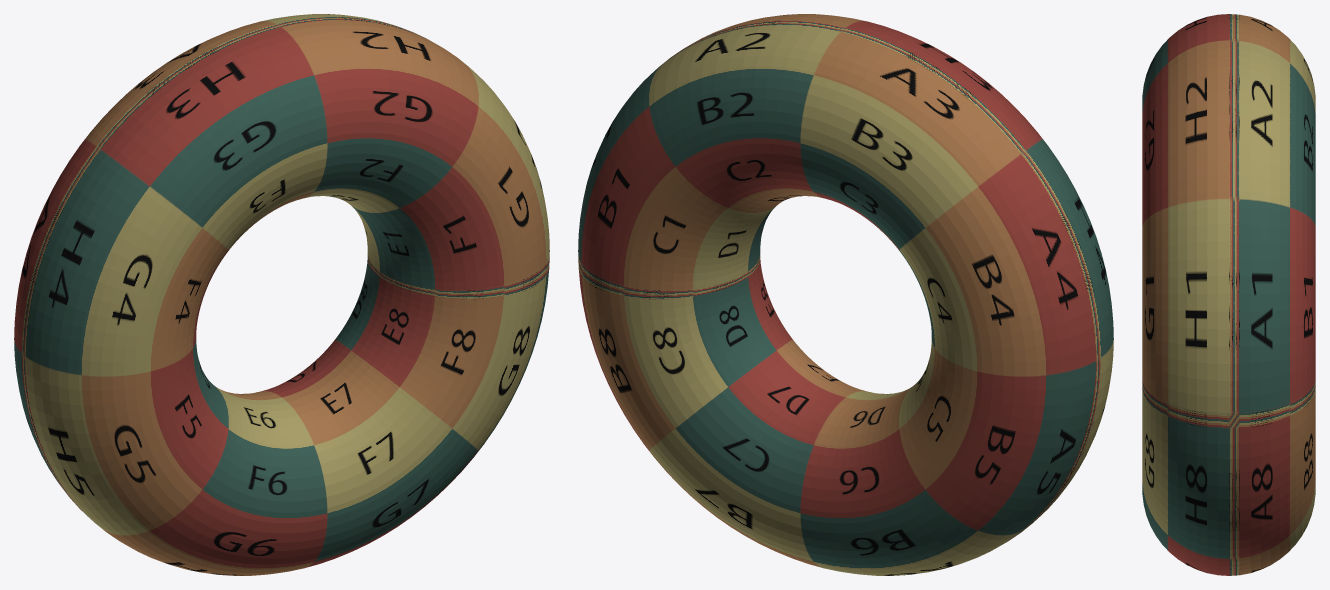
The model's file is texture_torus_R2_r5.glb.
The picture shows the model from 3 angles, left to right: view 1: azimuth 30°, elevation 25°; view 2: azimuth 150°, elevation 25°; view 3: azimuth 270°, elevation 25°; orthographic projection. The views are drawn at different scales.
Parts seen in each view (by area): view 1: world; view 2: world; view 3: world.
Boxes of the visible parts, x1,y1,x2,y2 form: world: [14, 14, 549, 575]; world: [578, 14, 1113, 575]; world: [1142, 14, 1315, 575].
Bounding box in the file's own units: 20.89 × 20.89 × 6.43.
1 material, 1 textured.
